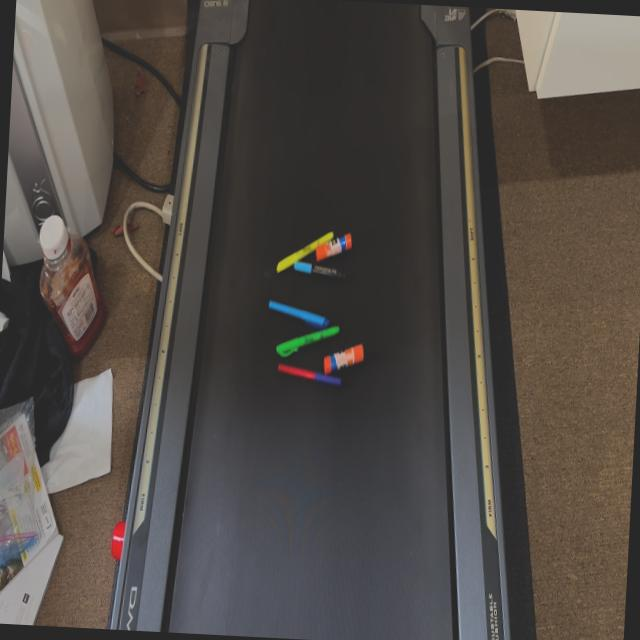Trash: (263, 226, 372, 390)
